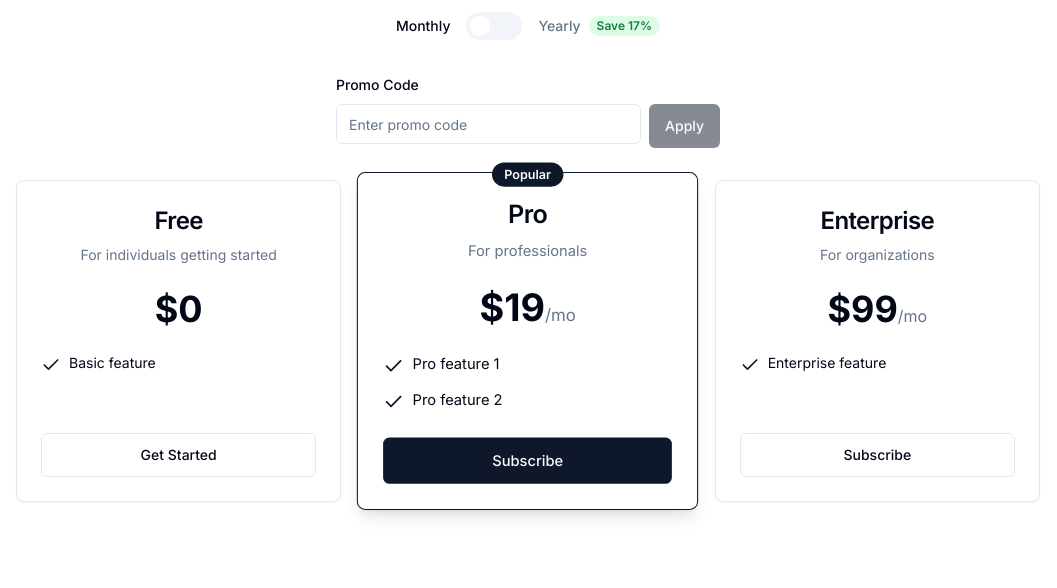
Scenario: PricingTable › error handling › displays error from API response
The image size is (1057, 588).
Click the button "Subscribe" below "Pro feature 2" at [528, 461], box x1=383 y1=438 x2=672 y2=484
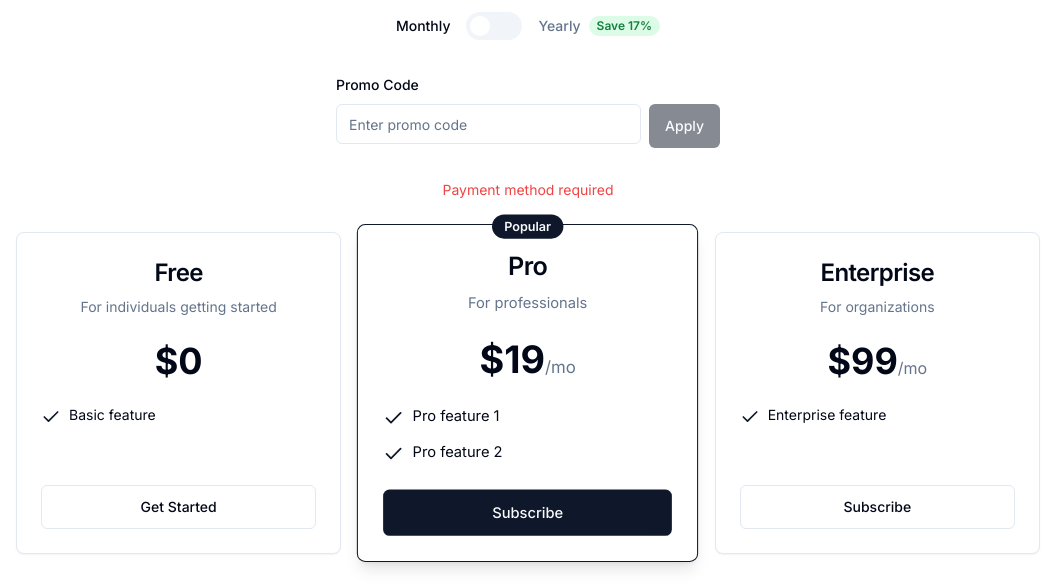
Result: the text "Payment method required" is shown at x1=442 y1=181 x2=614 y2=198
